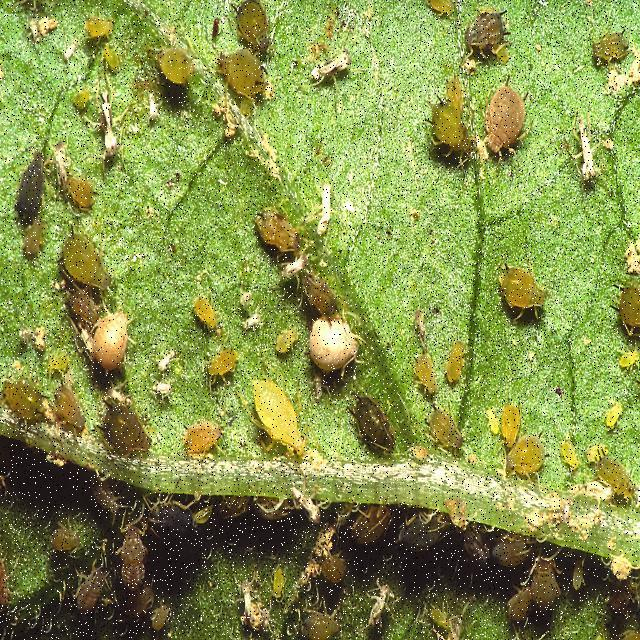Aphids: (476, 65, 536, 168), (242, 366, 308, 459), (55, 232, 130, 303), (251, 190, 314, 267), (418, 96, 476, 175), (183, 326, 255, 389), (492, 255, 551, 326), (77, 307, 139, 367), (148, 37, 208, 98), (496, 425, 553, 485), (169, 404, 237, 454), (597, 435, 634, 503), (193, 284, 233, 345), (563, 421, 589, 503), (410, 340, 440, 409), (431, 401, 469, 454), (409, 430, 439, 490), (502, 399, 531, 433)
